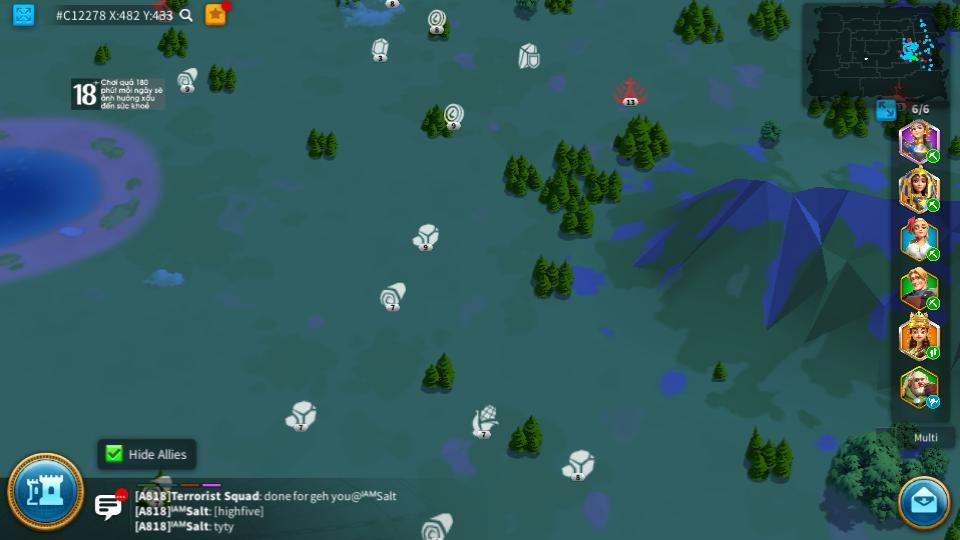gem-z-out: (414, 223, 438, 248), (368, 37, 390, 61)
march_idle: (925, 396, 942, 408)
march_marching: (925, 197, 941, 212), (925, 347, 942, 359), (925, 297, 942, 308), (925, 250, 942, 261), (925, 151, 941, 162)
